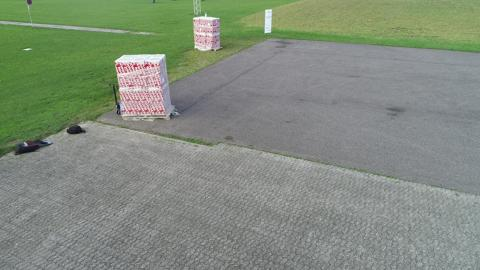RockwoolPallet: (113, 53, 176, 119)
